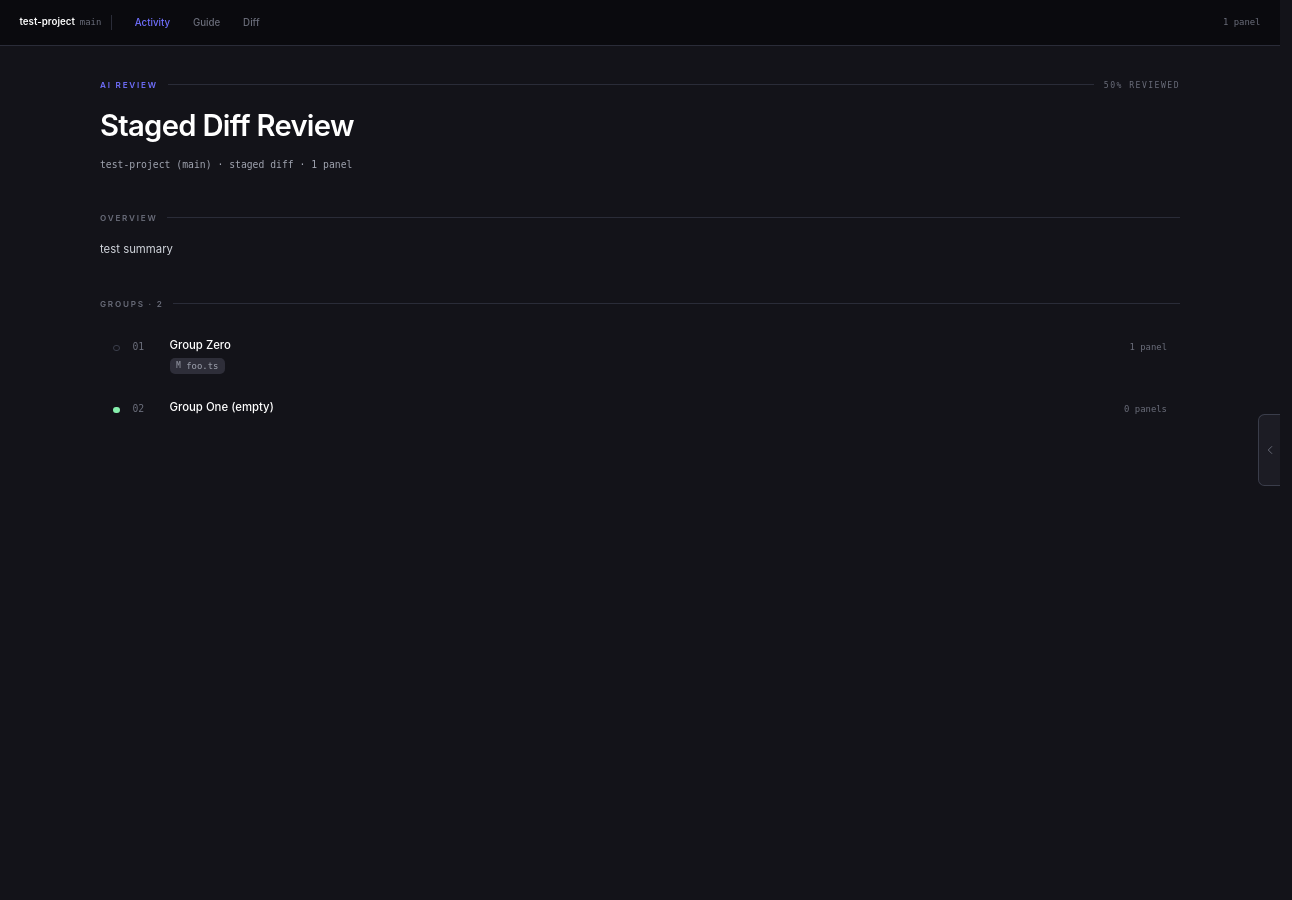
Test: context+ (onRequestContext 経由) › fetch 失敗時: regen 用 toast を出し、regenPending が解除されて再試行できる
What coordinates should you click on to do the following:
click the tab "Guide"
I would click on:
 (207, 22)
Its box is [183,11,230,34].
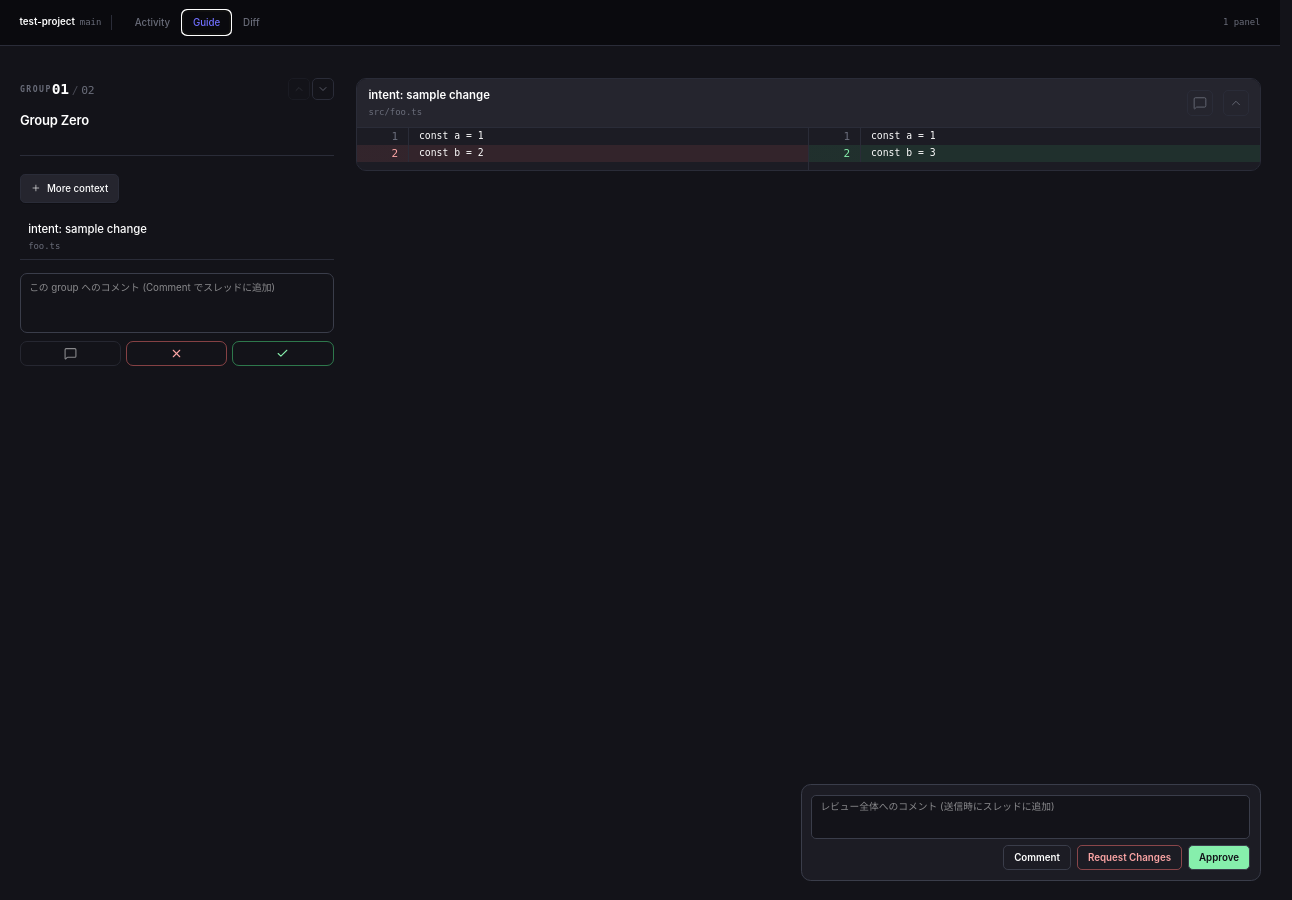
What coordinates should you click on to do the following:
click the button "More context"
I would click on:
 (69, 188)
Its box is [20,174,118,202].
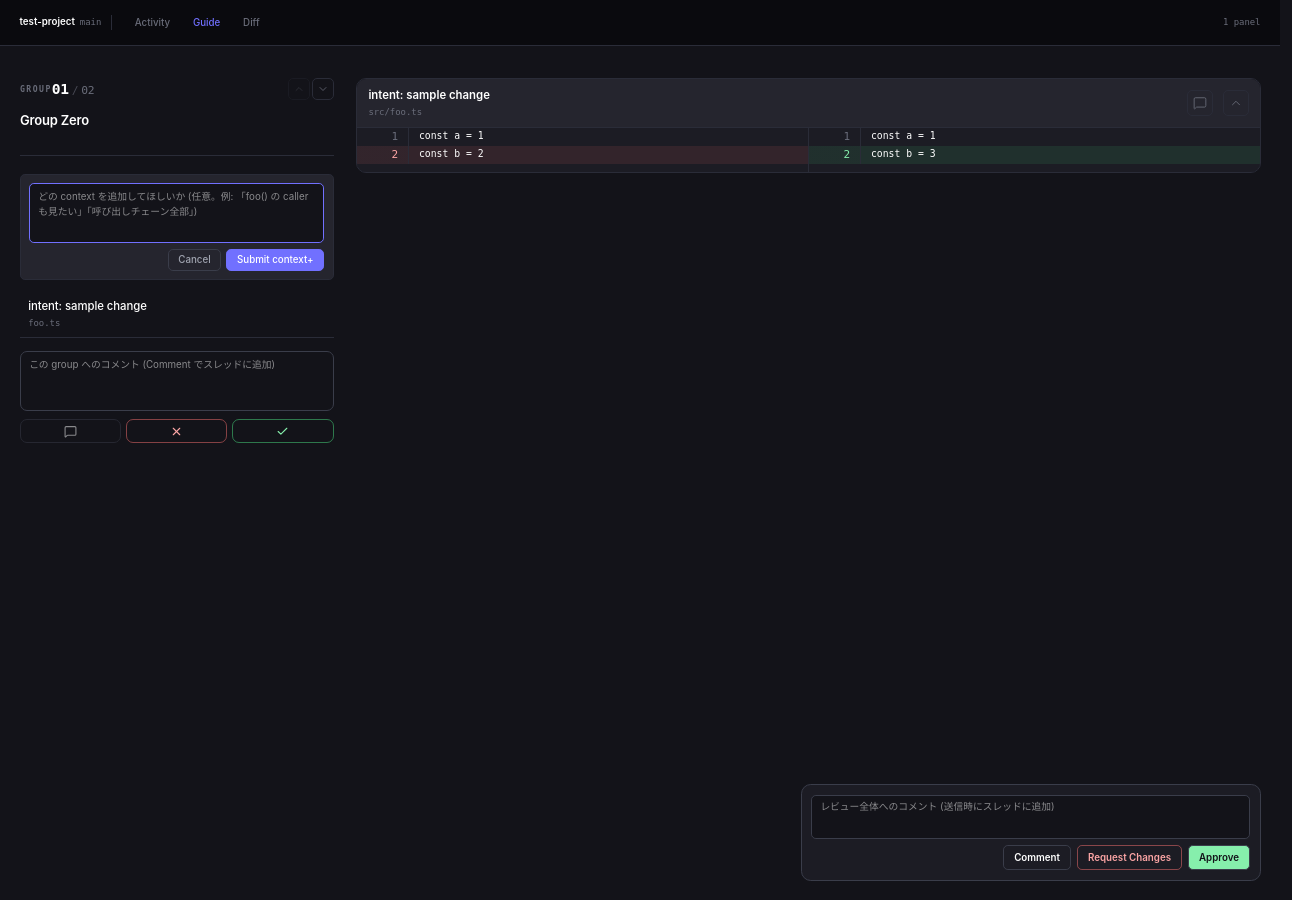
What coordinates should you click on to do the following:
click the button "Submit context+"
I would click on:
 (275, 260)
Its box is [226,249,324,271].
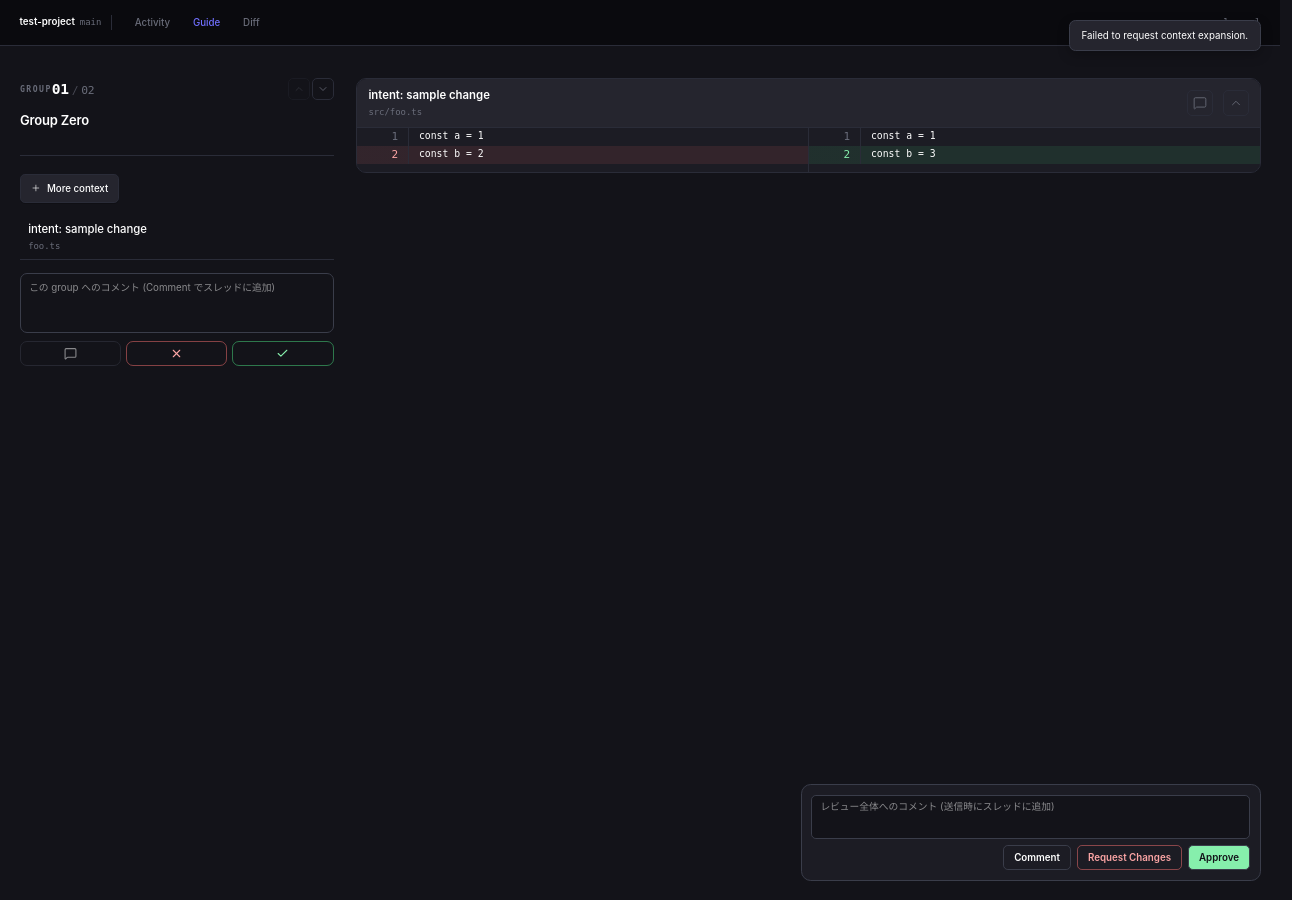
Now the text "Failed to request context expansion." is shown, box [1069,20,1260,51]
Now the button "More context" is enabled, box [20,174,118,202]
